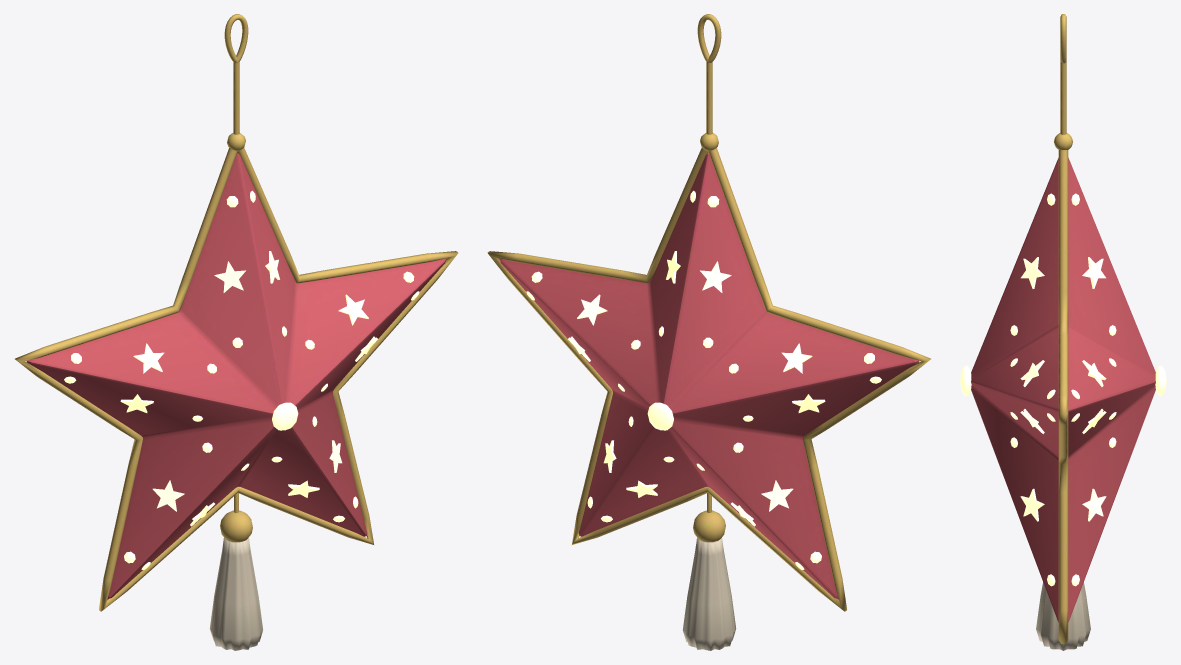
The model's file is mago.glb.
3 renders of one model, left to right at view 1: azimuth 30°, elevation 25°; view 2: azimuth 150°, elevation 25°; view 3: azimuth 270°, elevation 25°, orthographic.
Visible parts, largest first — view 1: star-lantern_body; view 2: star-lantern_body; view 3: star-lantern_body.
Part boxes in pixels (x1,y1,x2,y2): star-lantern_body: (15,14,458,650); star-lantern_body: (487,14,930,650); star-lantern_body: (960,14,1166,650).
Size of the model in its own units: 0.3672 by 0.4984 by 0.1488.
Materials: 2 (1 with a texture image).
